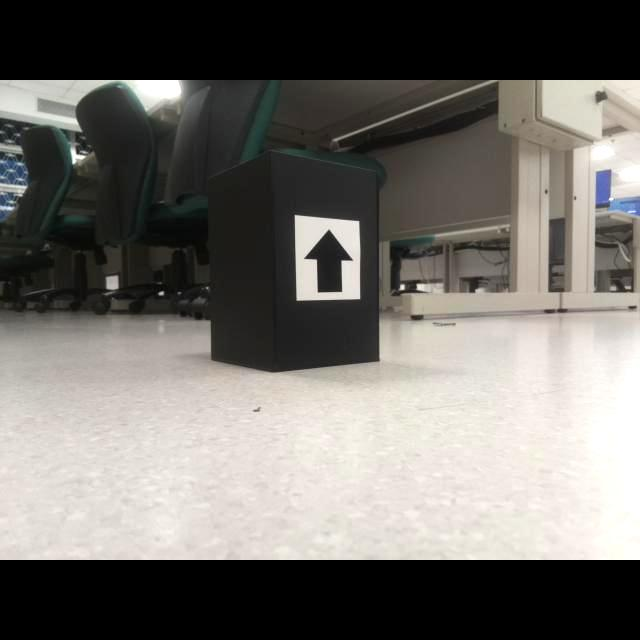UP: (300, 227, 356, 293)
